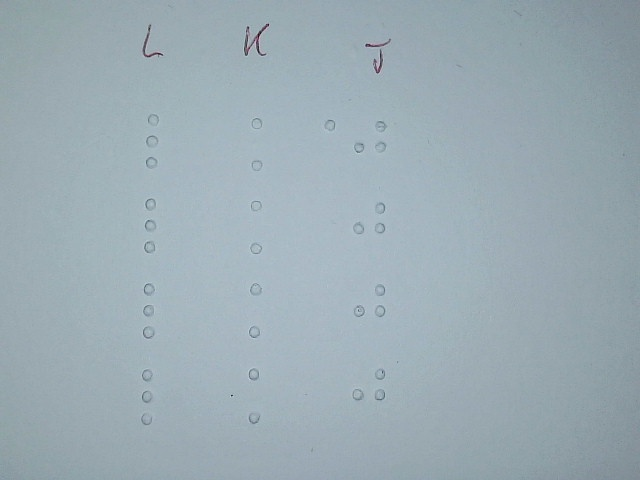J: (351, 110, 388, 170), (351, 193, 388, 253), (351, 275, 388, 335), (350, 359, 387, 419)
K: (242, 113, 284, 174), (241, 197, 283, 258), (242, 280, 284, 341), (240, 365, 282, 426)
L: (138, 110, 180, 171), (137, 194, 179, 255), (135, 281, 177, 342), (133, 366, 175, 427)
